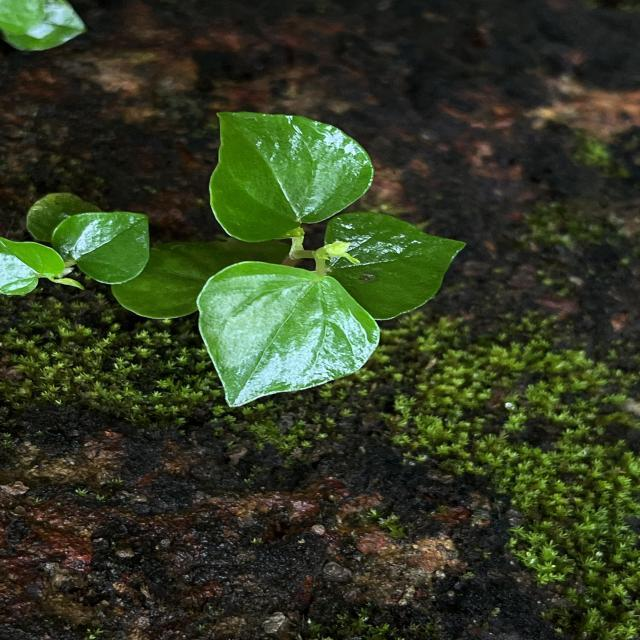Peperomia pellucida: (196, 258, 382, 408), (208, 110, 377, 244)
